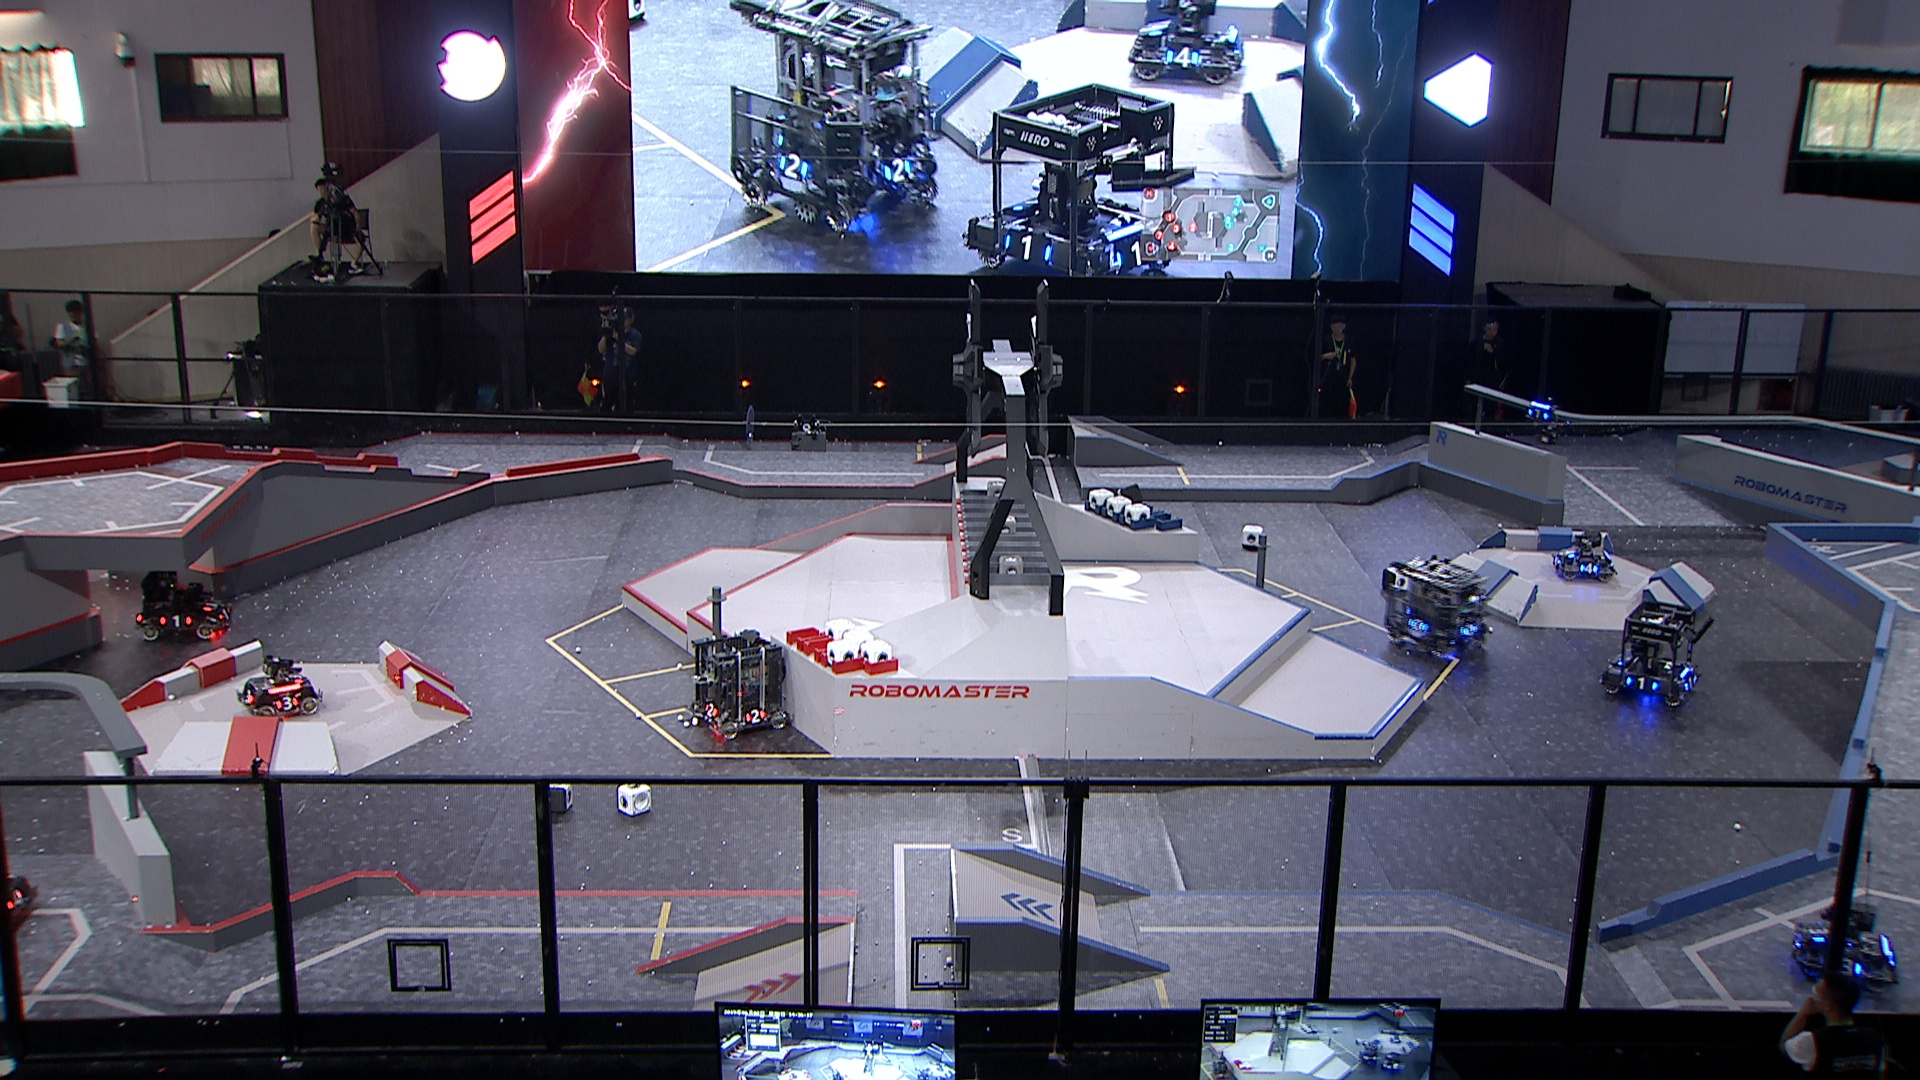armor: (1830, 959, 1863, 977), (156, 612, 191, 626), (1788, 930, 1811, 951), (3, 887, 22, 910), (1623, 676, 1656, 690), (1807, 920, 1826, 940), (1406, 617, 1427, 636), (276, 694, 299, 709), (243, 684, 258, 705), (200, 595, 220, 611), (286, 666, 306, 680), (1578, 562, 1600, 575), (1458, 621, 1477, 636), (746, 708, 765, 723), (1528, 407, 1549, 419), (702, 703, 717, 719), (218, 604, 231, 621), (1683, 675, 1697, 690), (1551, 553, 1563, 570), (1560, 545, 1576, 556)
car: (680, 626, 789, 738), (1378, 556, 1494, 659), (1602, 597, 1702, 709), (1785, 895, 1902, 989), (127, 560, 233, 640), (233, 654, 320, 717), (1544, 524, 1615, 583)
ignore: (961, 79, 1188, 276), (1209, 1050, 1236, 1080), (1357, 1040, 1385, 1067), (1378, 1050, 1406, 1073), (916, 1063, 934, 1080)
watcher: (1522, 390, 1567, 444)
